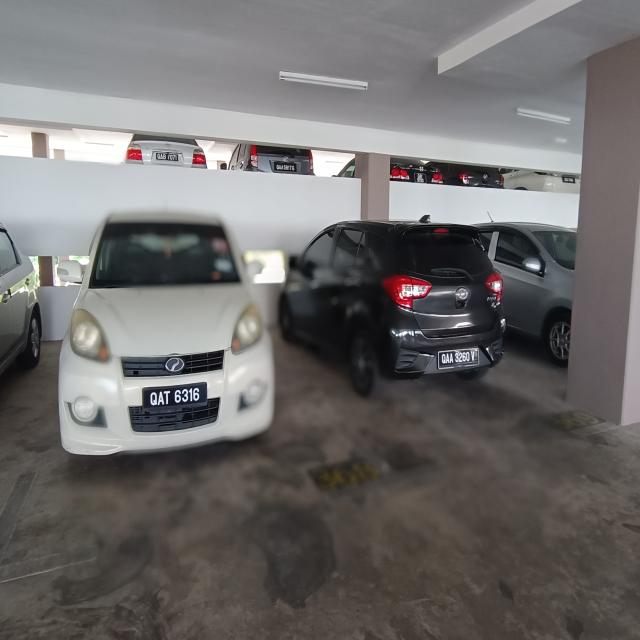PeroduaMyvi: (46, 177, 304, 480), (271, 197, 519, 429)
